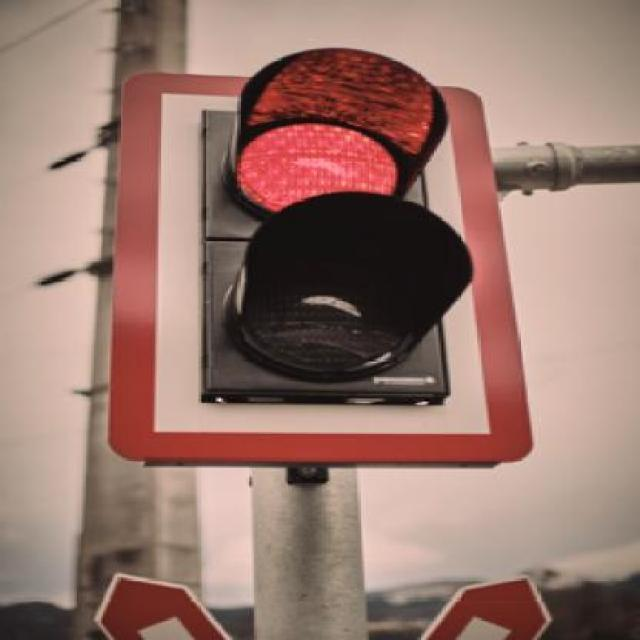Lampu Merah: (200, 108, 446, 402)
